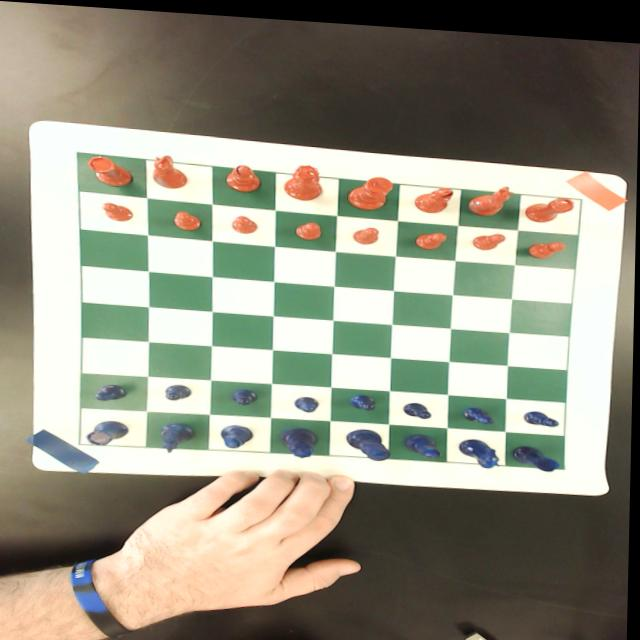B: (405, 427, 444, 453), (222, 420, 256, 446)
K: (347, 423, 392, 455)
N: (459, 430, 504, 462), (161, 419, 197, 451)
P: (97, 379, 130, 400), (526, 402, 562, 421), (463, 398, 497, 418), (166, 380, 194, 400), (404, 396, 434, 413), (351, 388, 379, 406), (234, 385, 262, 402), (296, 391, 322, 408)
Q: (282, 422, 321, 454)
R: (514, 436, 562, 466), (87, 416, 132, 445)
b: (414, 179, 454, 207), (226, 160, 262, 188)
k: (348, 169, 395, 205)
n: (467, 175, 517, 211), (153, 151, 190, 187)
p: (525, 228, 568, 254), (473, 224, 509, 244), (416, 224, 450, 244), (102, 200, 135, 220), (173, 207, 204, 228), (296, 215, 324, 236), (231, 211, 260, 230), (354, 220, 381, 239)
q: (285, 158, 324, 196)
r: (525, 186, 577, 217), (88, 153, 135, 185)
